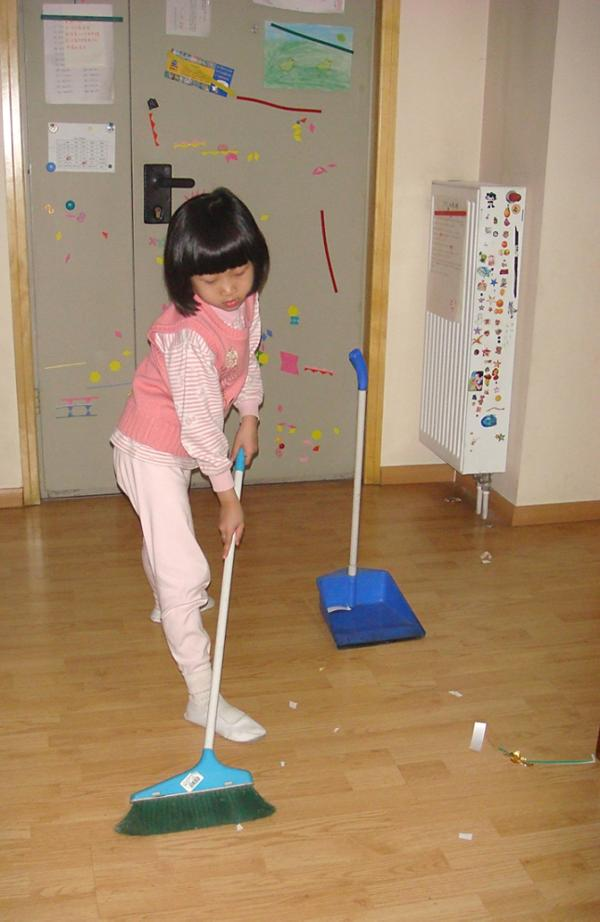person: (109, 190, 272, 746)
